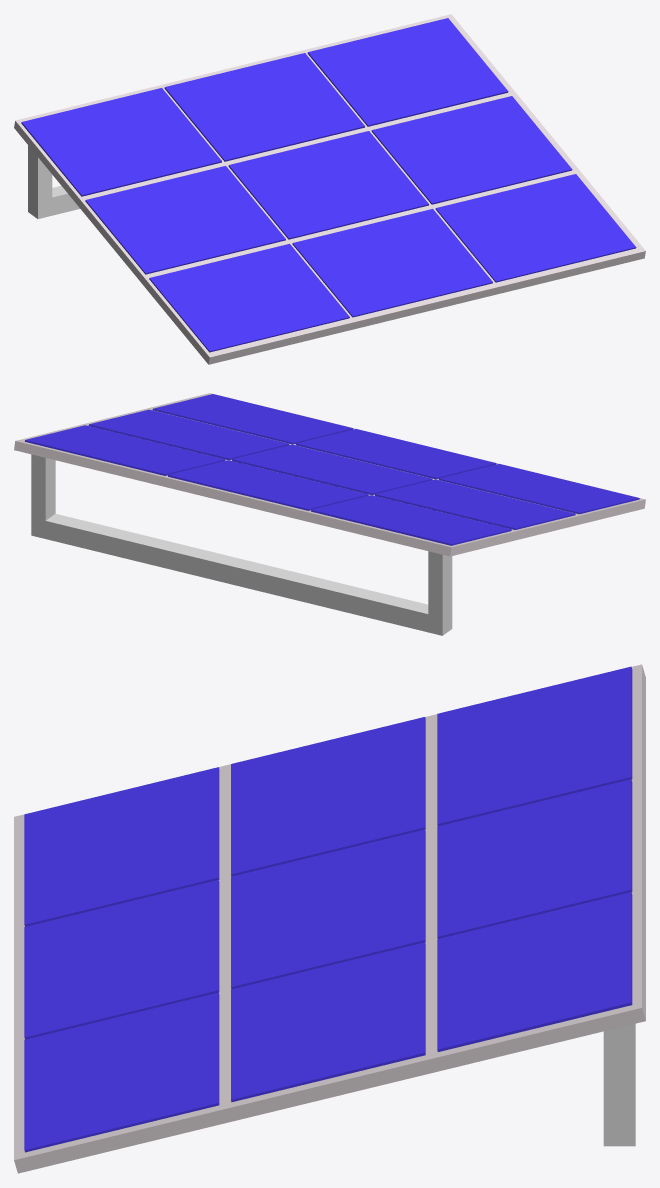
Rendered from PainelSolar.fbx.
3 renders of one model, top to bottom at view 1: azimuth 30°, elevation 25°; view 2: azimuth 150°, elevation 25°; view 3: azimuth 270°, elevation 25°, orthographic. The views are drawn at different scales.
Visible parts, largest first — view 1: Paineis, Base, Suporte; view 2: Paineis, Suporte, Base; view 3: Paineis, Base, Suporte.
Part boxes in pixels (x1=…): Paineis: x1=21, y1=18, x2=636, y2=352; Base: x1=14, y1=14, x2=645, y2=364; Suporte: x1=28, y1=145, x2=80, y2=218; Paineis: x1=25, y1=394, x2=639, y2=545; Suporte: x1=31, y1=454, x2=452, y2=635; Base: x1=14, y1=393, x2=645, y2=556; Paineis: x1=24, y1=666, x2=632, y2=1152; Base: x1=14, y1=664, x2=645, y2=1173; Suporte: x1=603, y1=1023, x2=635, y2=1146.
Size of the model in its own units: 1000 by 226 by 778.
